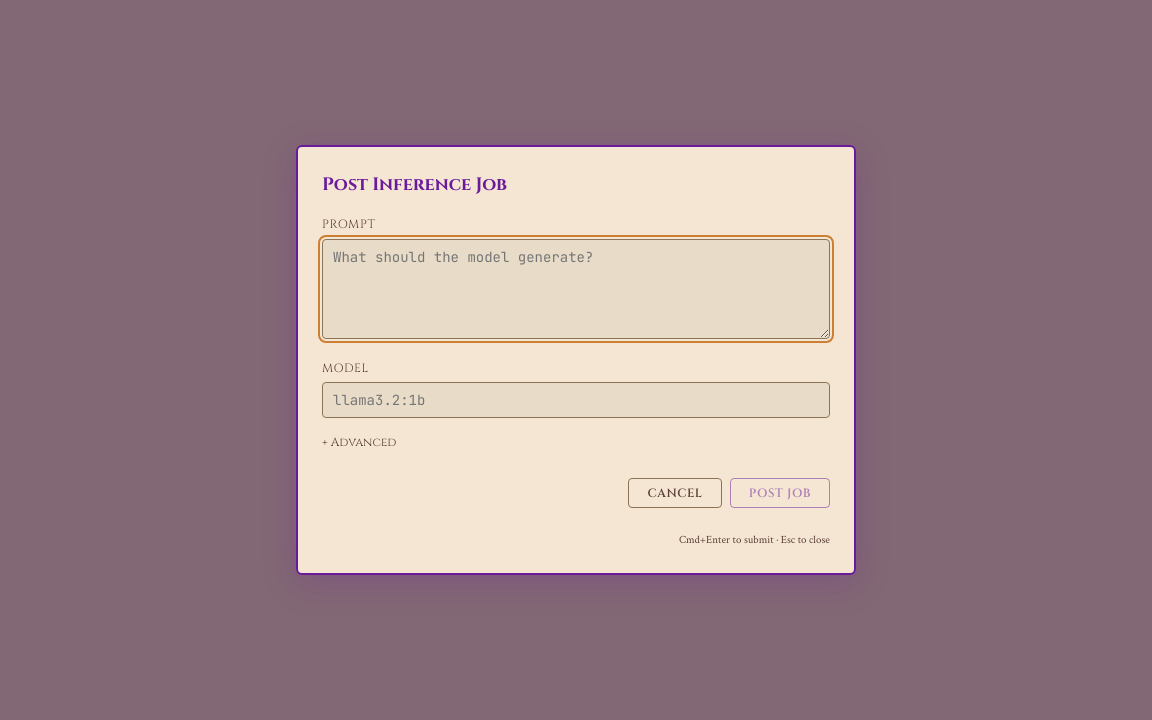
Test case: WantedForm inference mode › advanced toggle shows seed and max tokens
Expected: the text "Seed" is not shown
What coordinates should you click on to do the following:
click the button "+ Advanced"
I would click on:
 (359, 442)
Its box is x1=322 y1=430 x2=396 y2=454.
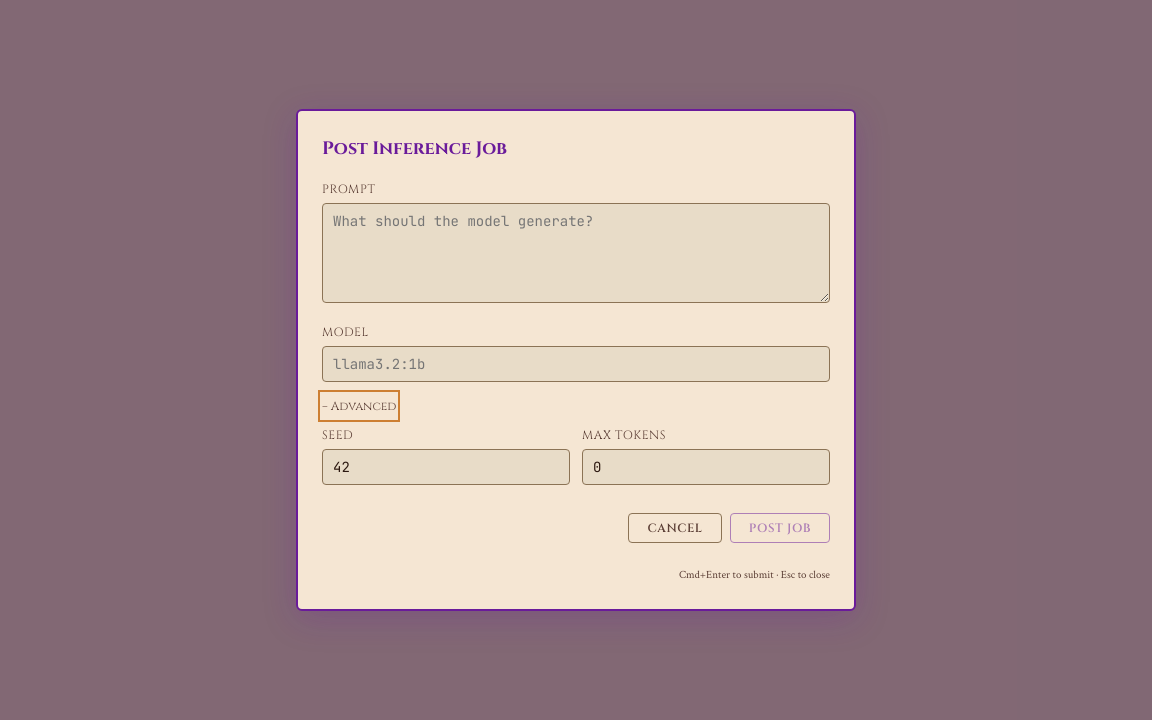
Expected: the text "Seed" is shown, x1=322 y1=427 x2=353 y2=443
Expected: the text "Max Tokens" is shown, x1=582 y1=427 x2=666 y2=443
Expected: the number field showing "42" below "Seed" is shown, x1=322 y1=449 x2=570 y2=485
